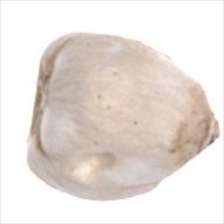L4: (24, 31, 219, 201)
